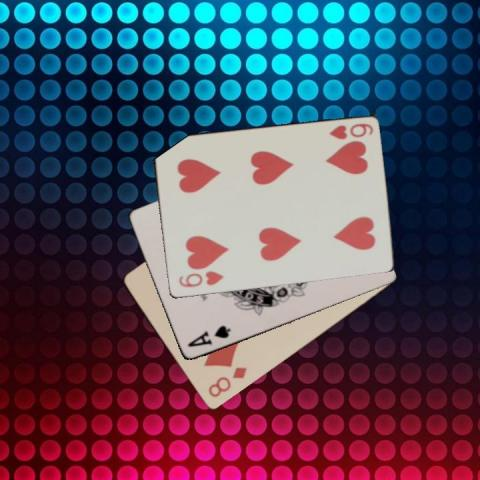6h: (175, 268, 225, 289), (325, 120, 374, 140)
8d: (204, 364, 248, 399)
As: (185, 322, 232, 348)
